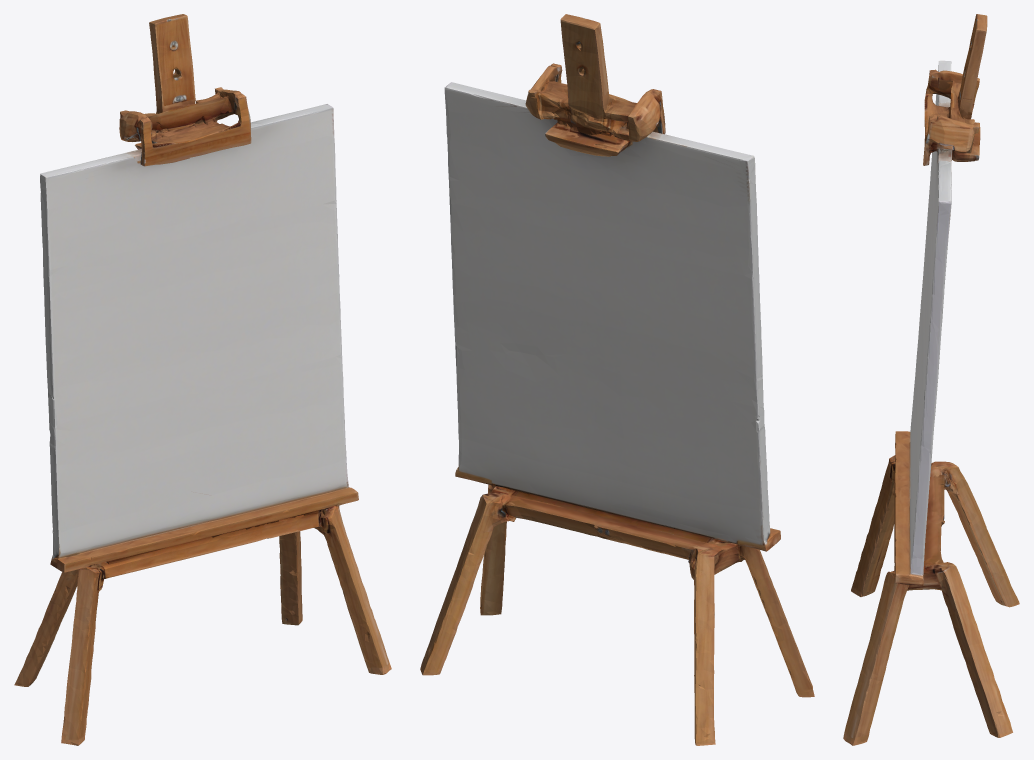
Rendered from Ultra_realistic_paint_0505173744_texture.fbx.
3 renders of one model, left to right at view 1: azimuth 30°, elevation 25°; view 2: azimuth 150°, elevation 25°; view 3: azimuth 270°, elevation 25°, orthographic. The views are drawn at different scales.
Visible parts, largest first — view 1: temp; view 2: temp; view 3: temp.
Part boxes in pixels (left/top/right/bottom): temp: left=14, top=14, right=391, bottom=745; temp: left=420, top=14, right=814, bottom=745; temp: left=843, top=14, right=1019, bottom=745.
Size of the model in its own units: 105 by 200 by 49.47.
Materials: 1 (1 with a texture image).
